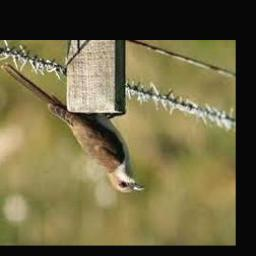Cuckoo: (2, 64, 145, 193)
